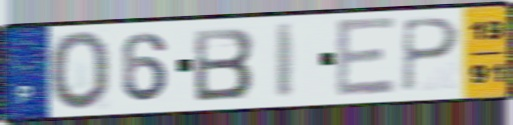6: (119, 31, 171, 104)
B: (191, 26, 258, 104)
E: (333, 15, 398, 101)
I: (274, 21, 299, 101)
O: (47, 29, 113, 113)
P: (400, 16, 462, 95)
